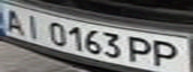0: (42, 18, 69, 47)
1: (63, 24, 84, 52)
3: (100, 30, 127, 61)
6: (81, 27, 103, 57)
A: (0, 7, 30, 35)
I: (21, 11, 48, 40)
P: (148, 38, 190, 70), (124, 34, 157, 65)
